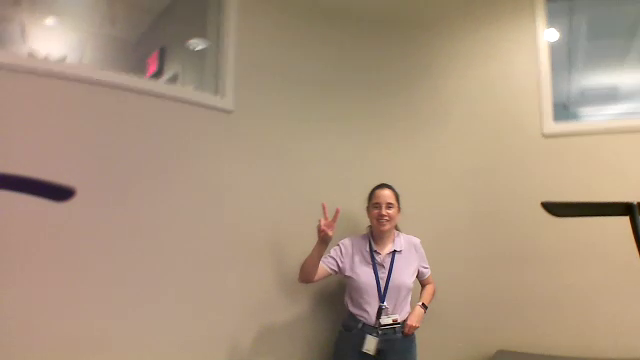peace: (312, 197, 347, 243)
